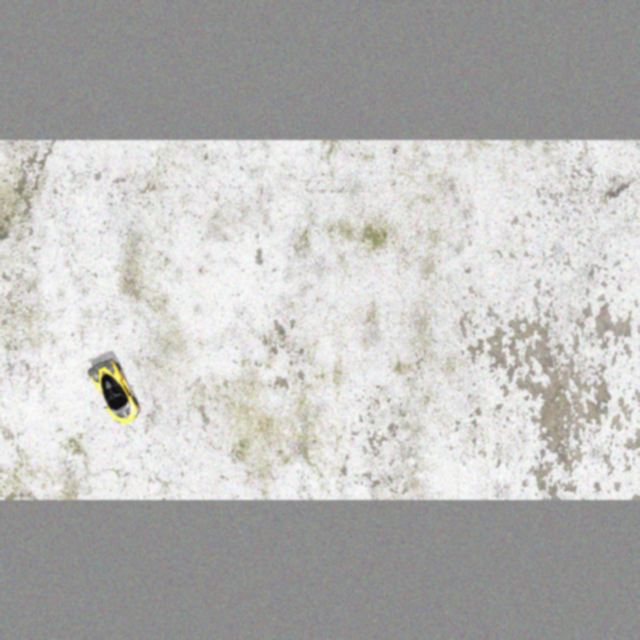car: (83, 355, 145, 430)
